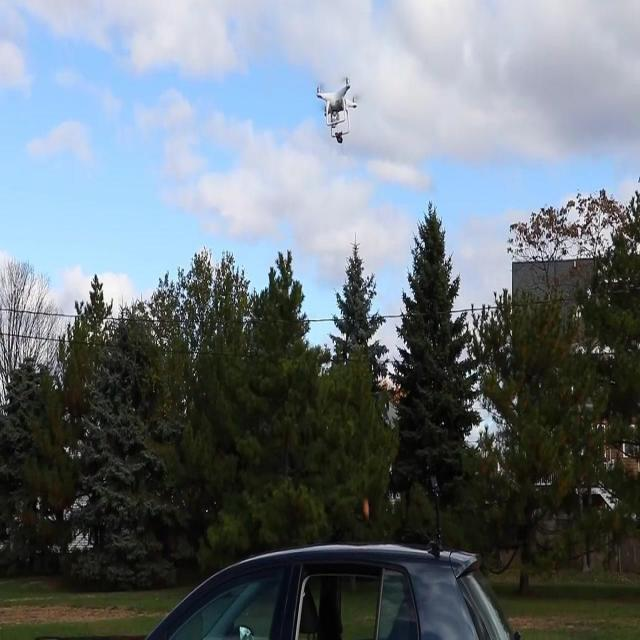UAV: (316, 75, 358, 145)
